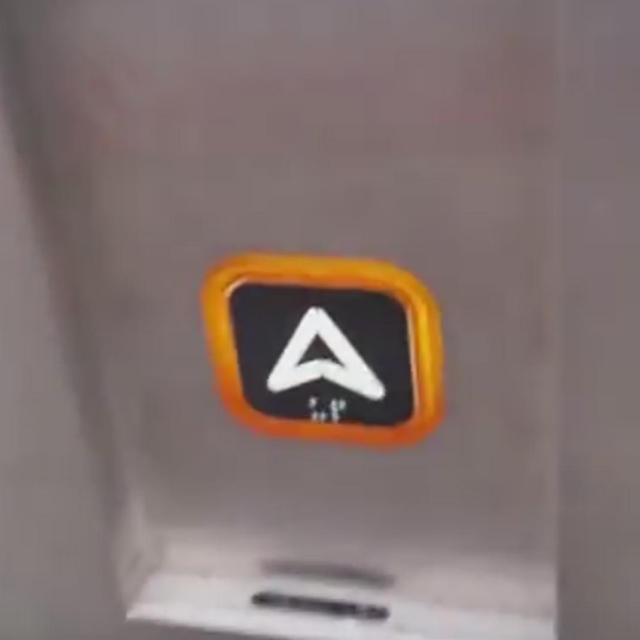up: (201, 254, 441, 448)
